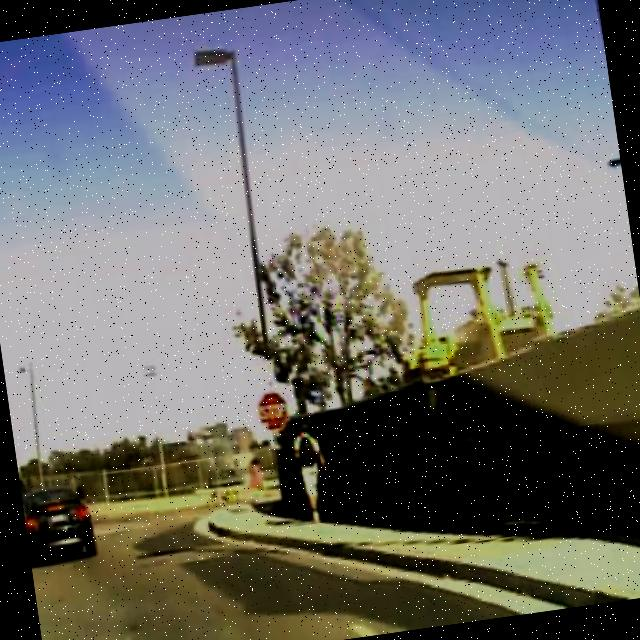Stop: (254, 387, 294, 436)
